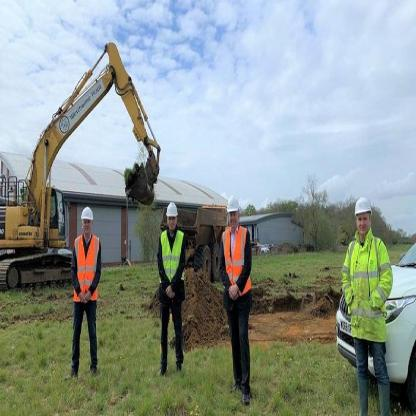excavator: (0, 37, 158, 308)
person: (342, 184, 392, 415), (153, 199, 193, 396), (219, 187, 253, 408), (69, 203, 100, 376)
